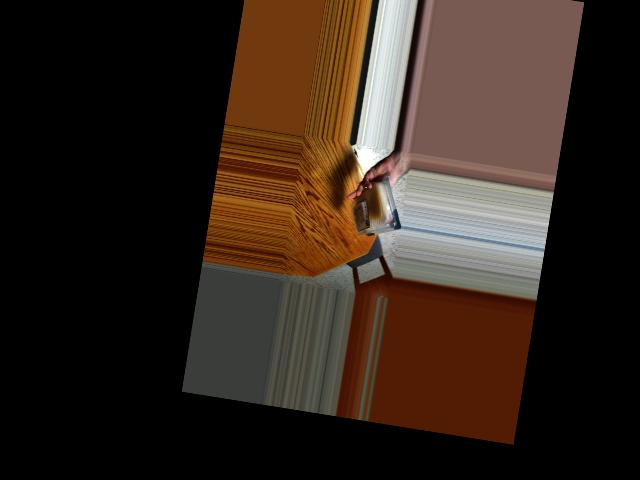cheese: (348, 178, 403, 240)
